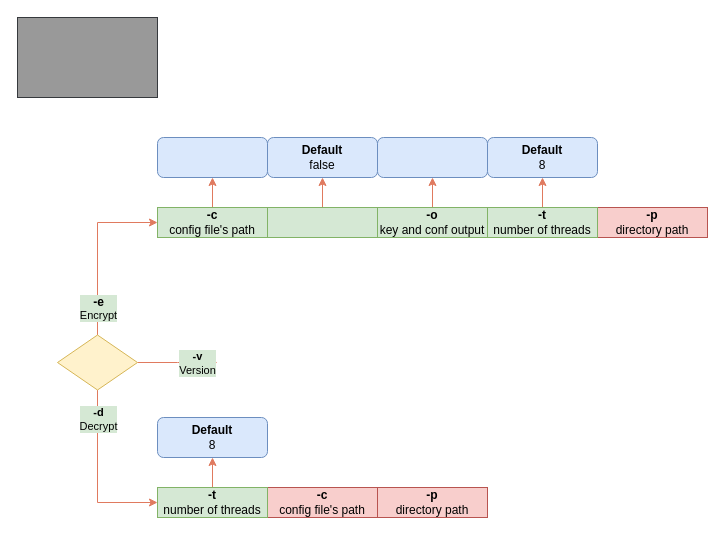
The diagram is 725 pixels wide and 535 high, and some of its shapes have lost their labels. Each missing label, with the centre of its shape:
-n also rename files: (x=322, y=222)
action: (x=97, y=362)
Default Current directory: (x=432, y=157)
Default Generate new key: (x=212, y=157)
Legend Mandatory Optional Condition Default value: (x=87, y=57)
